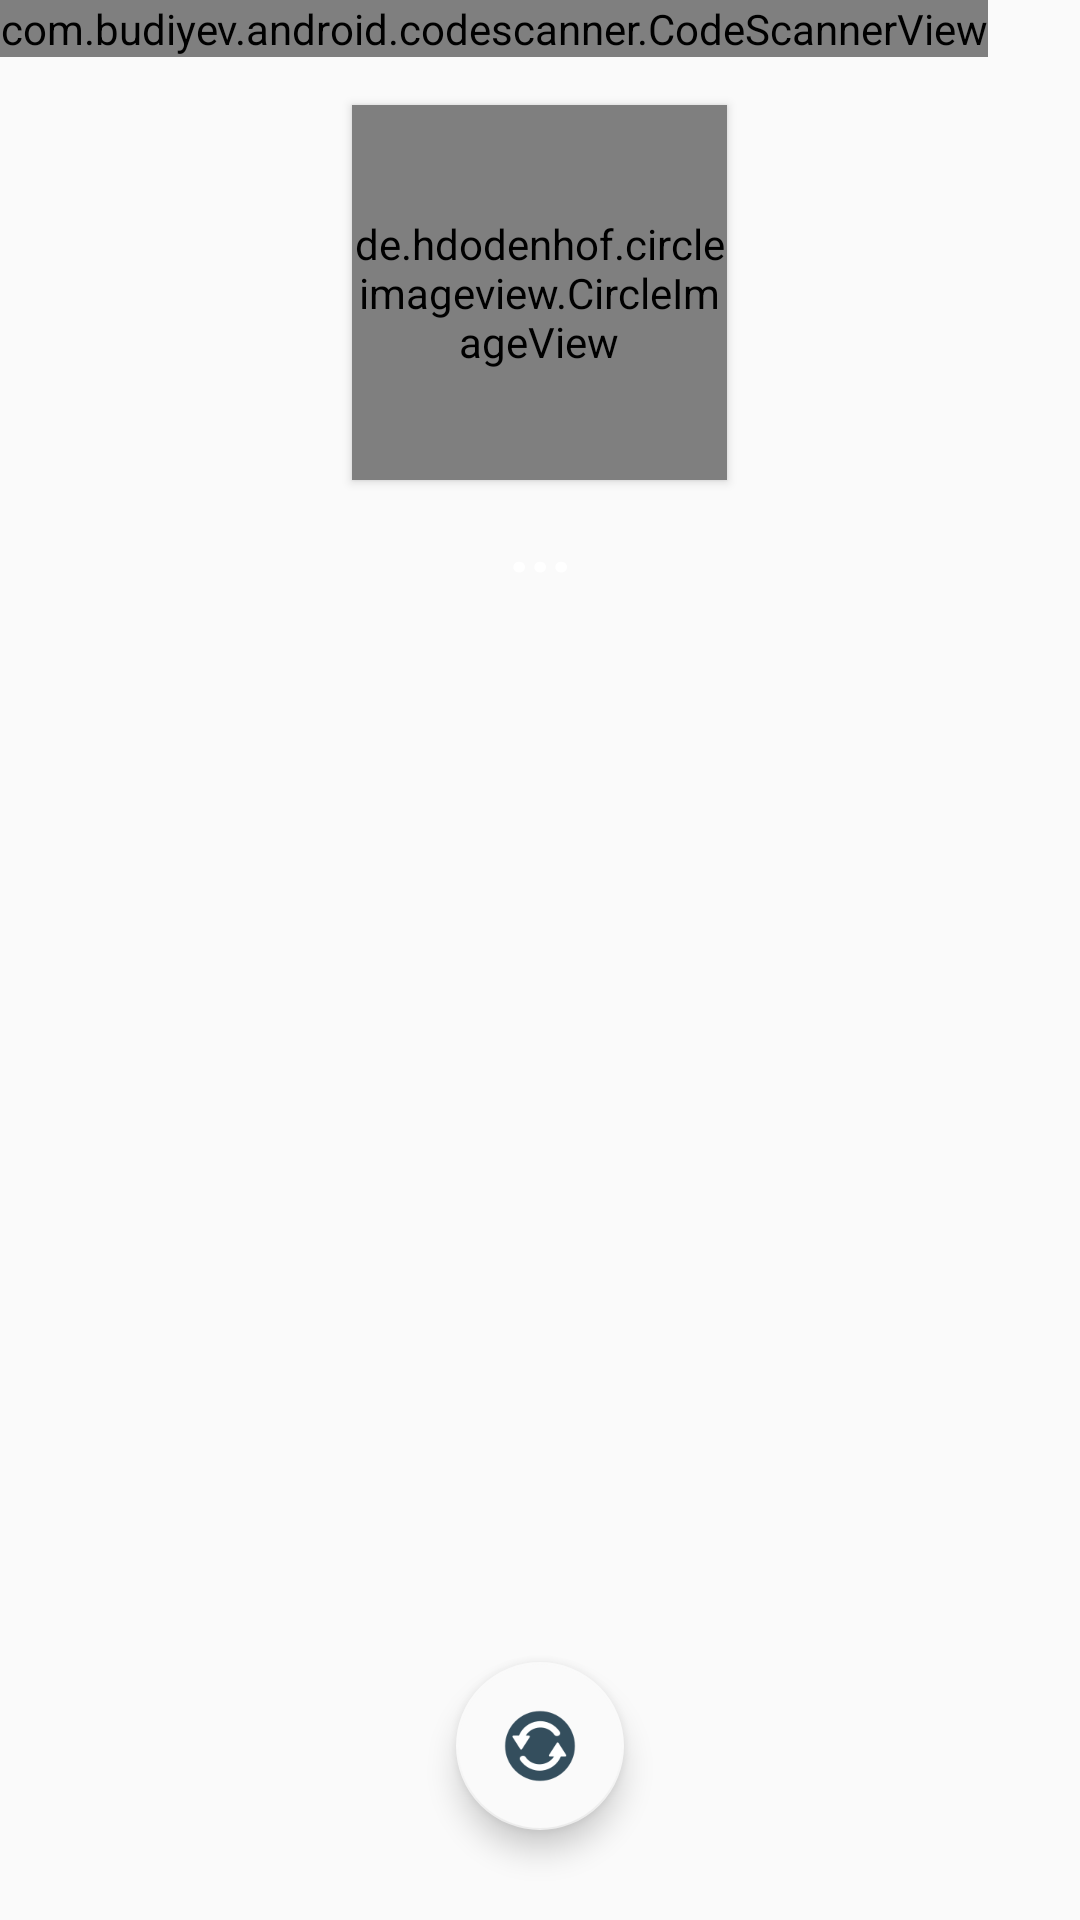

Icon bounding boxes for this 1080*1920 phone screenshot, format (x1, y1, x2, y2):
refresh: (456, 1711, 575, 1781)
